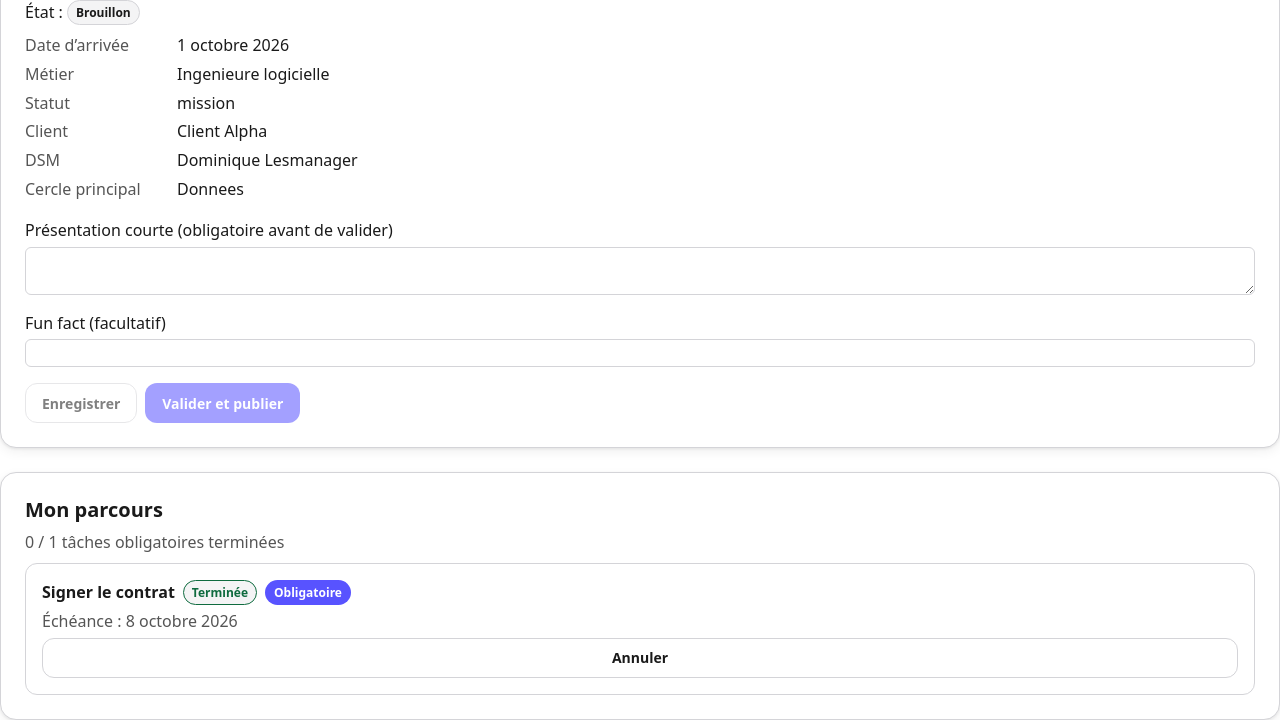
Test: le parcours — une instance ACTIVE avec des taches › rapporte le refus en 409 sur l’annulation, SANS faire disparaitre le bouton
The width and height of the screenshot is (1280, 720).
(page scrolled)
Click the button "Annuler" at (640, 658), box [42, 638, 1238, 678]
(page scrolled)
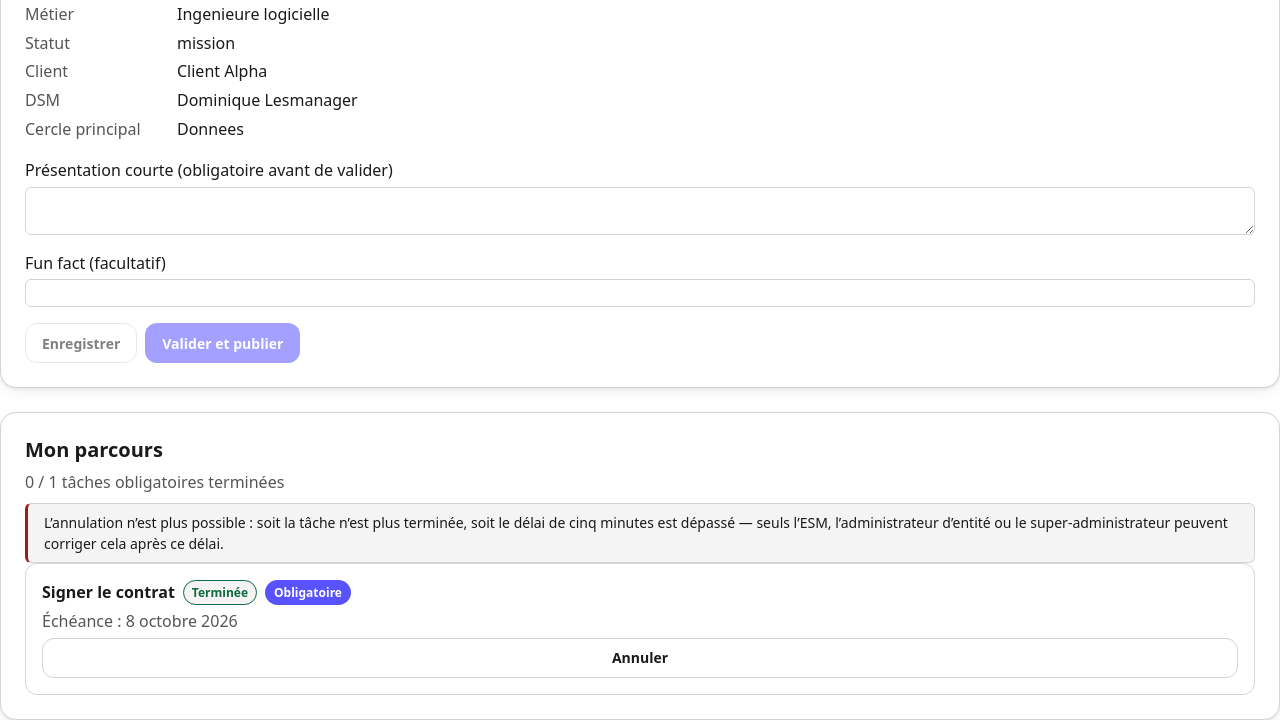
Expected: the text "délai de cinq minutes" is shown, [44, 513, 1228, 553]
